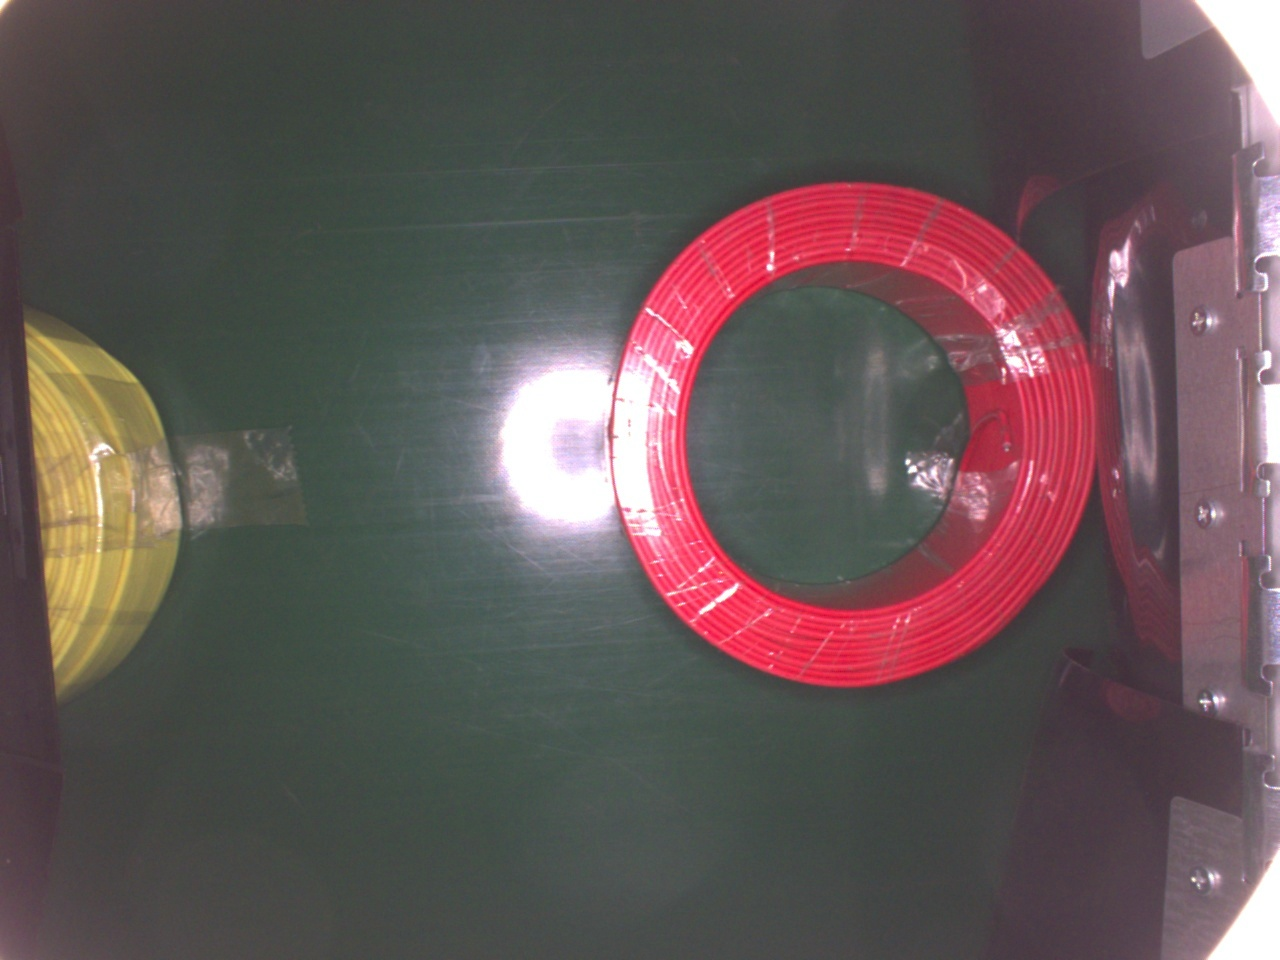red: (598, 177, 1115, 698)
yellow: (24, 302, 190, 701)
